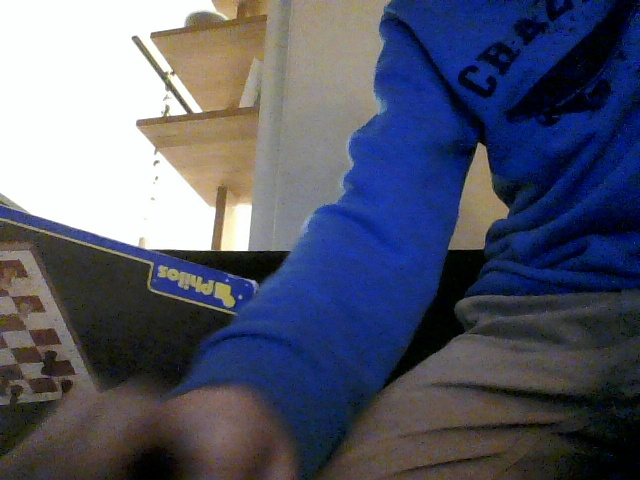schaak: (0, 208, 184, 385)
